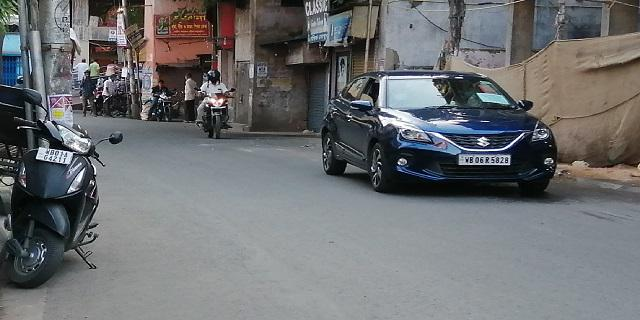Car: (316, 68, 561, 200)
Motorbike: (3, 87, 101, 293), (193, 67, 236, 142)
